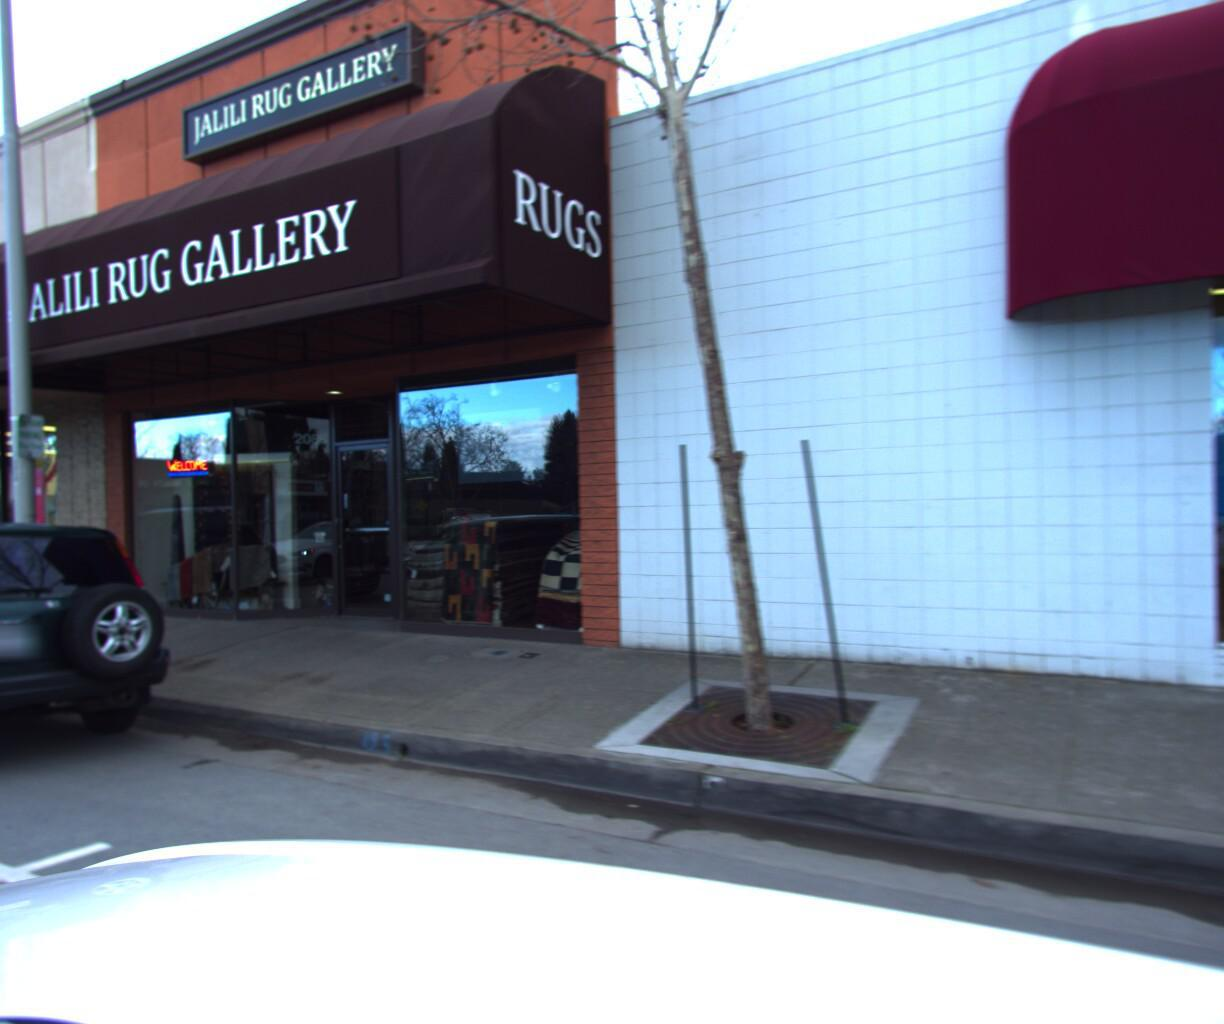car: (0, 503, 203, 799)
